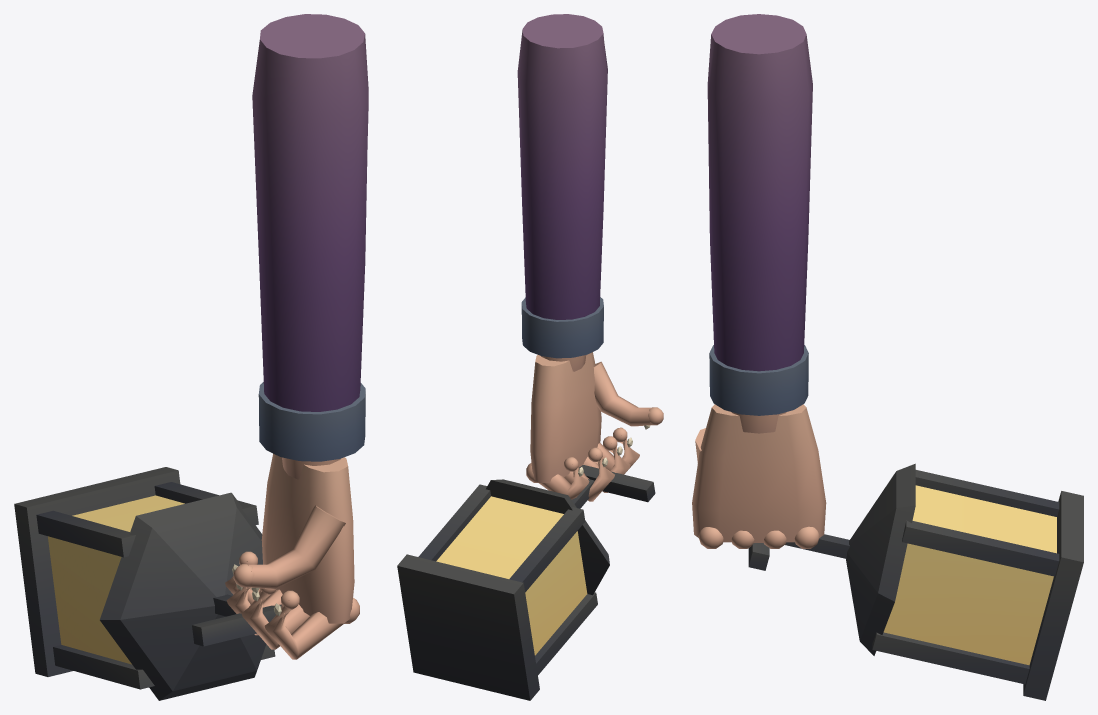
File: merchant_nyra_fore_l.glb
3 renders of one model, left to right at view 1: azimuth 30°, elevation 25°; view 2: azimuth 150°, elevation 25°; view 3: azimuth 270°, elevation 25°, orthographic. The views are drawn at different scales.
Parts seen in each view (by area): view 1: merchant_nyra_fore_l; view 2: merchant_nyra_fore_l; view 3: merchant_nyra_fore_l.
Boxes of the visible parts, left/top/right/bottom form: merchant_nyra_fore_l: left=14, top=14, right=368, bottom=700; merchant_nyra_fore_l: left=397, top=14, right=663, bottom=700; merchant_nyra_fore_l: left=692, top=14, right=1083, bottom=700.
Size of the model in its own units: 0.4393 by 1.59 by 0.8677.
1 material, 1 textured.
